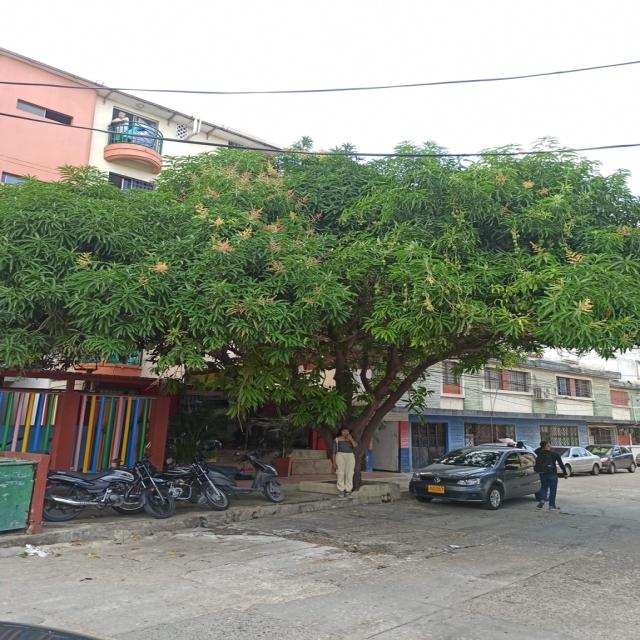Mango-Tree: (17, 148, 640, 425)
